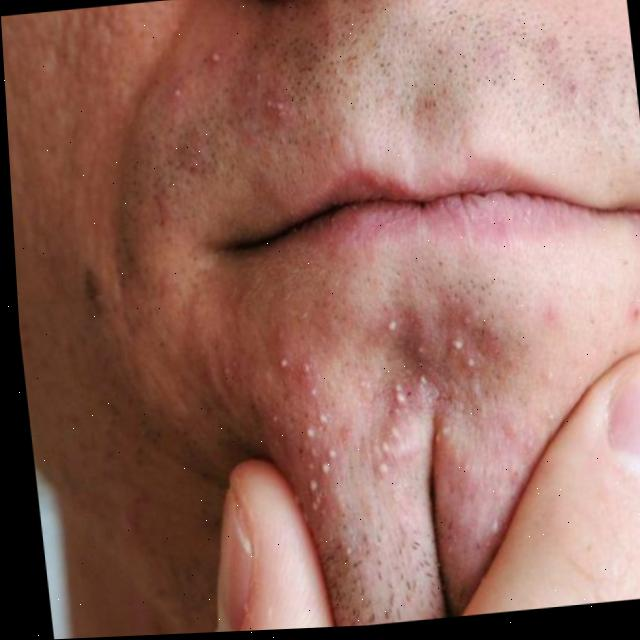Acne: (275, 330, 513, 493)
